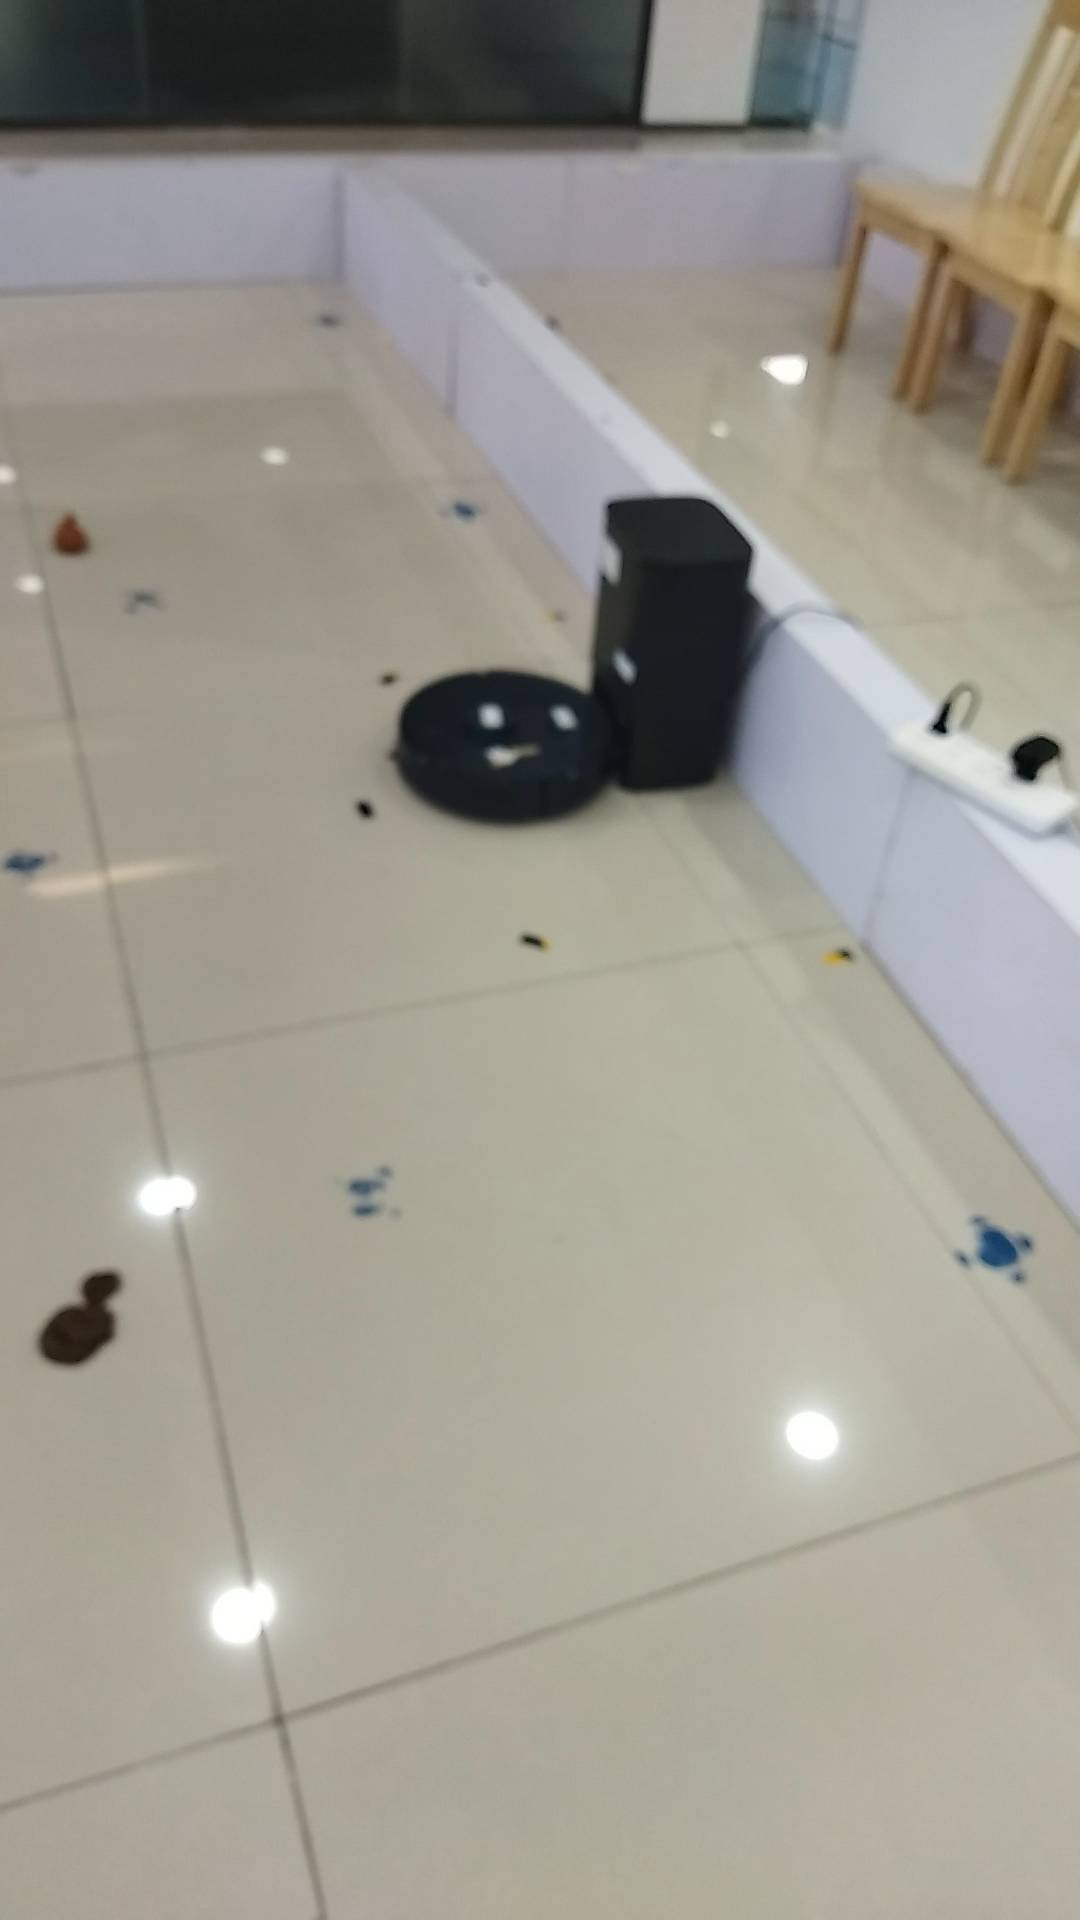dust collecting barrel: (587, 495, 756, 793)
